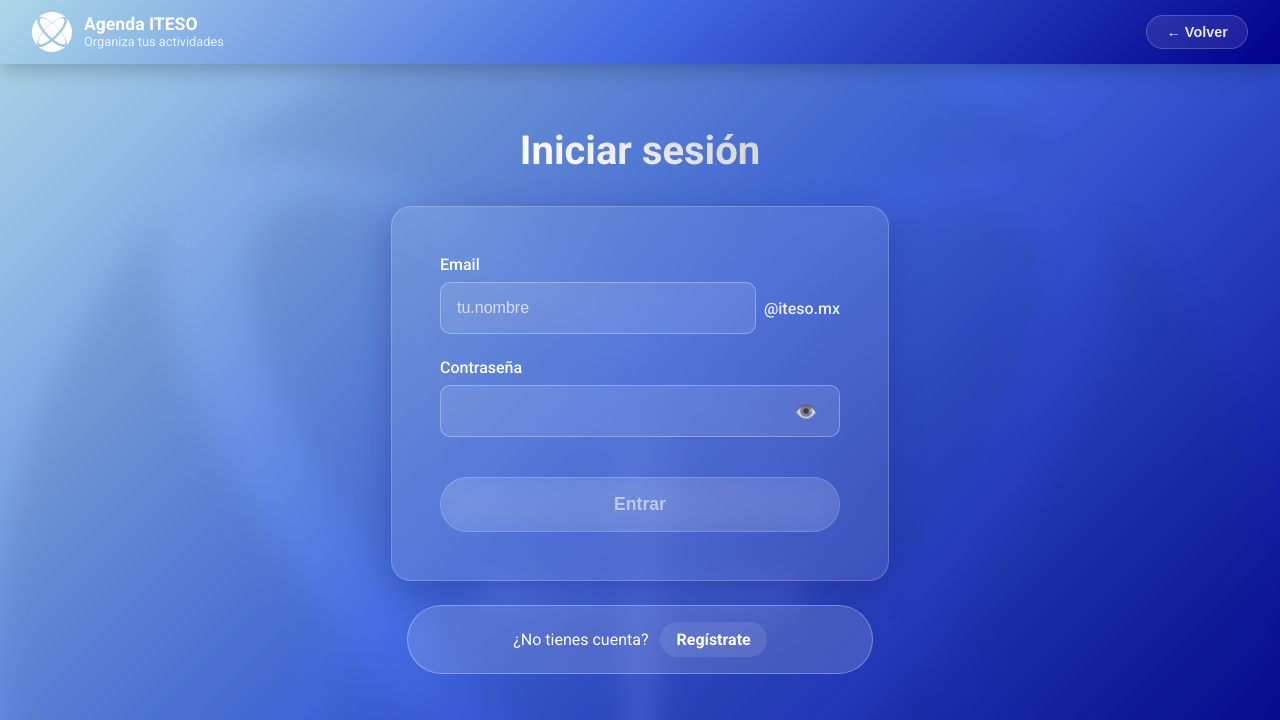
Login Component E2E Tests › debería mostrar error al intentar login con credenciales incorrectas
The width and height of the screenshot is (1280, 720).
Note: Llenar con credenciales inválidas
In the field named "emailPrefix": (598, 308) [440, 282, 756, 334], type "usuario.invalido"
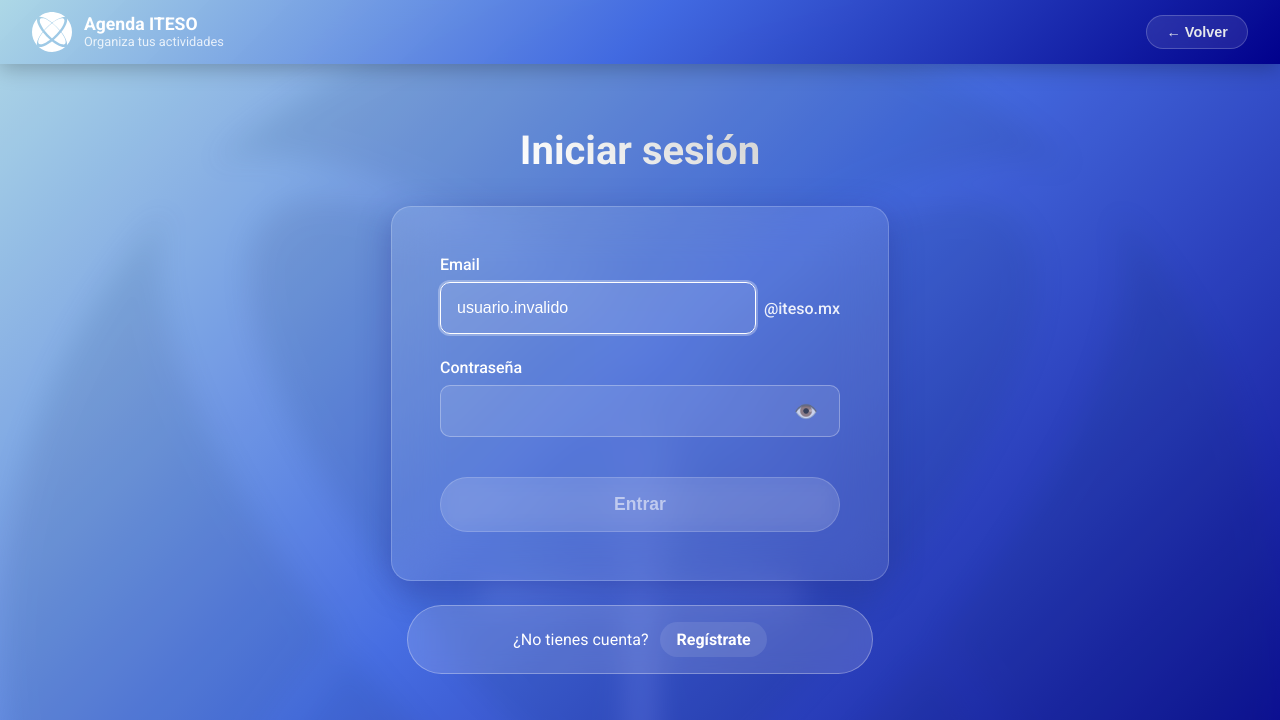
In the password field named "password": (640, 411) [440, 385, 840, 437], type "Password123"
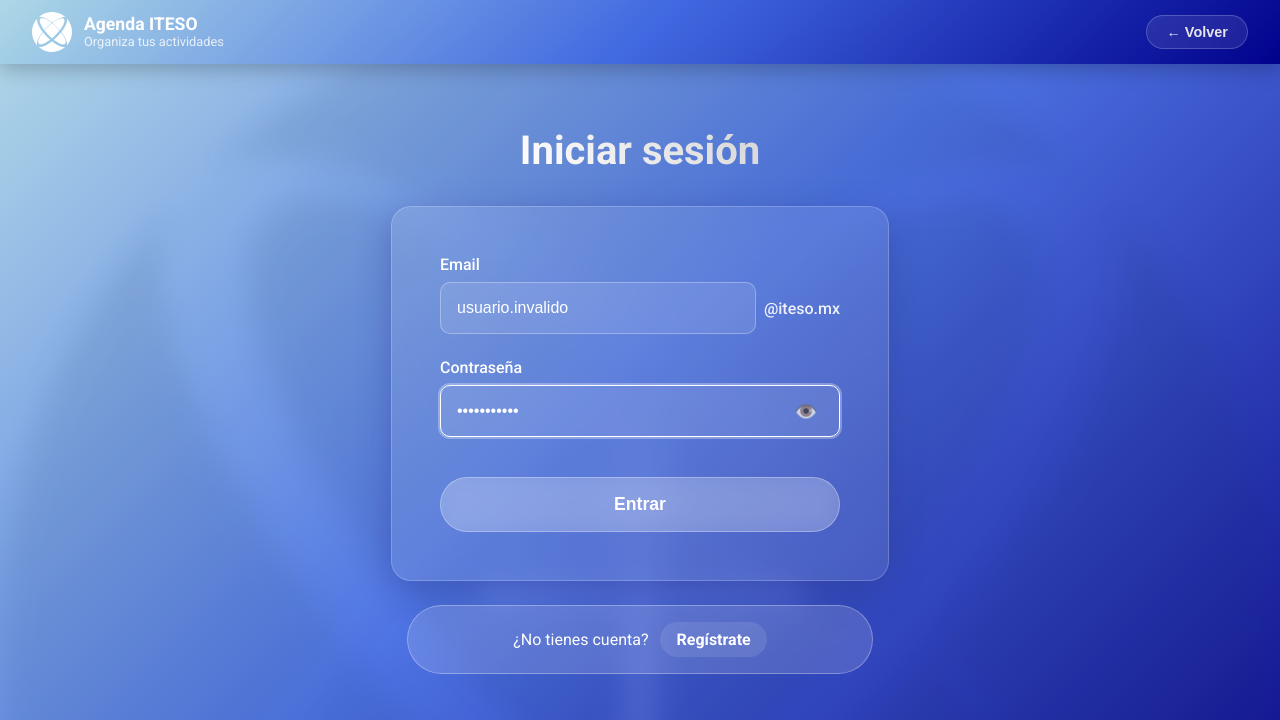
Note: Enviar formulario
Click the submit button: (640, 505) [440, 477, 840, 532]
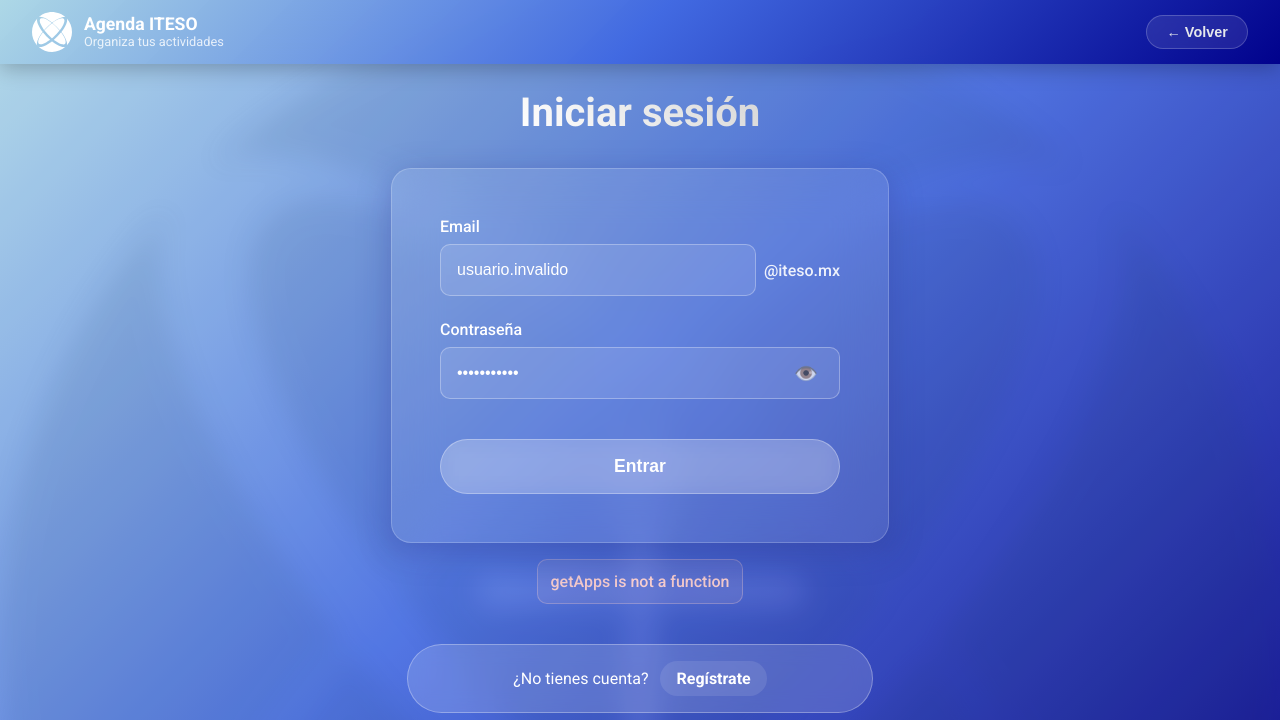
Result: the text "getApps is not a function" is shown at [538, 559, 742, 604]
